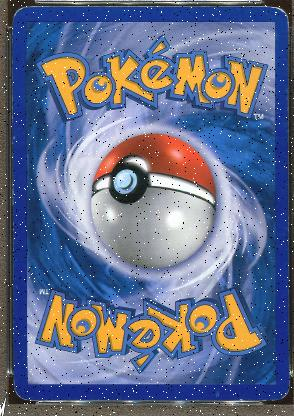Card: (8, 0, 292, 408)
Corner Wear: (11, 378, 41, 402), (264, 3, 288, 27), (259, 384, 287, 402), (10, 4, 32, 21)
Edge Wear: (37, 4, 269, 8), (11, 29, 14, 219), (12, 220, 18, 304), (283, 84, 287, 152)
Scratch: (255, 326, 266, 336), (212, 389, 220, 397), (266, 135, 271, 141)
